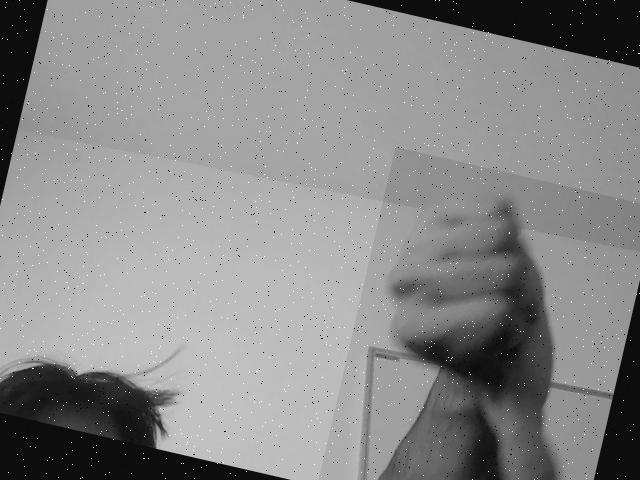bad: (317, 146, 640, 480)
